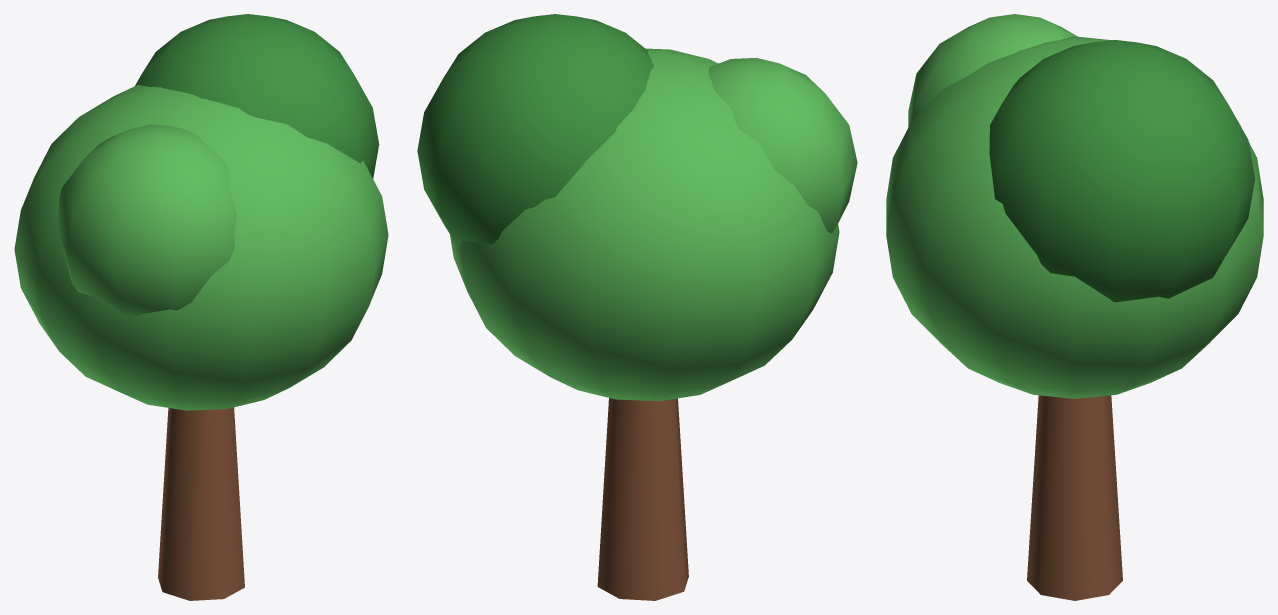
The model's file is tree_a.glb.
3 renders of one model, left to right at view 1: azimuth 30°, elevation 25°; view 2: azimuth 150°, elevation 25°; view 3: azimuth 270°, elevation 25°, orthographic. The views are drawn at different scales.
Visible parts, largest first — view 1: TreeA; view 2: TreeA; view 3: TreeA.
Part boxes in pixels (<box>): TreeA: <box>14,14,388,600</box>; TreeA: <box>417,14,857,600</box>; TreeA: <box>886,14,1263,600</box>.
Bounding box in the file's own units: 1.05 × 1.55 × 0.9418.
